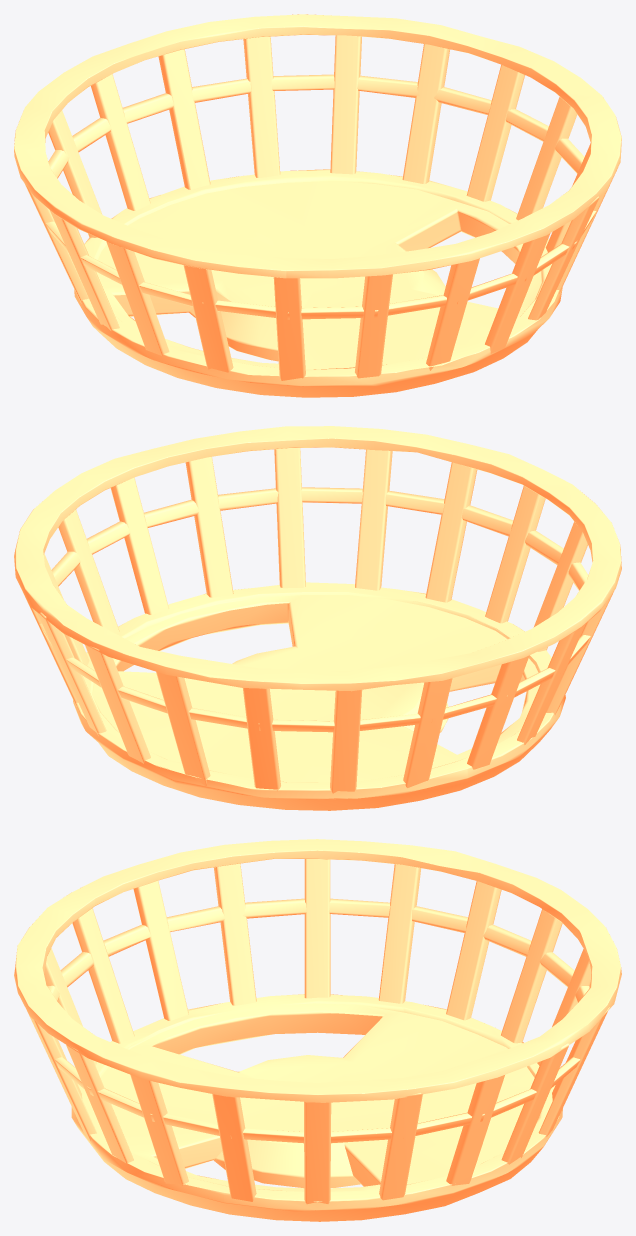
The model's file is SM_MastNest.fbx.
3 renders of one model, top to bottom at view 1: azimuth 30°, elevation 25°; view 2: azimuth 150°, elevation 25°; view 3: azimuth 270°, elevation 25°, orthographic.
Parts seen in each view (by area): view 1: SM_MastNest_LOD0; view 2: SM_MastNest_LOD0; view 3: SM_MastNest_LOD0.
Part boxes in pixels (x1=…): SM_MastNest_LOD0: x1=14, y1=14, x2=621, y2=397; SM_MastNest_LOD0: x1=14, y1=426, x2=621, y2=810; SM_MastNest_LOD0: x1=14, y1=839, x2=621, y2=1221.
Bounding box in the file's own units: 304 × 304 × 97.63.
